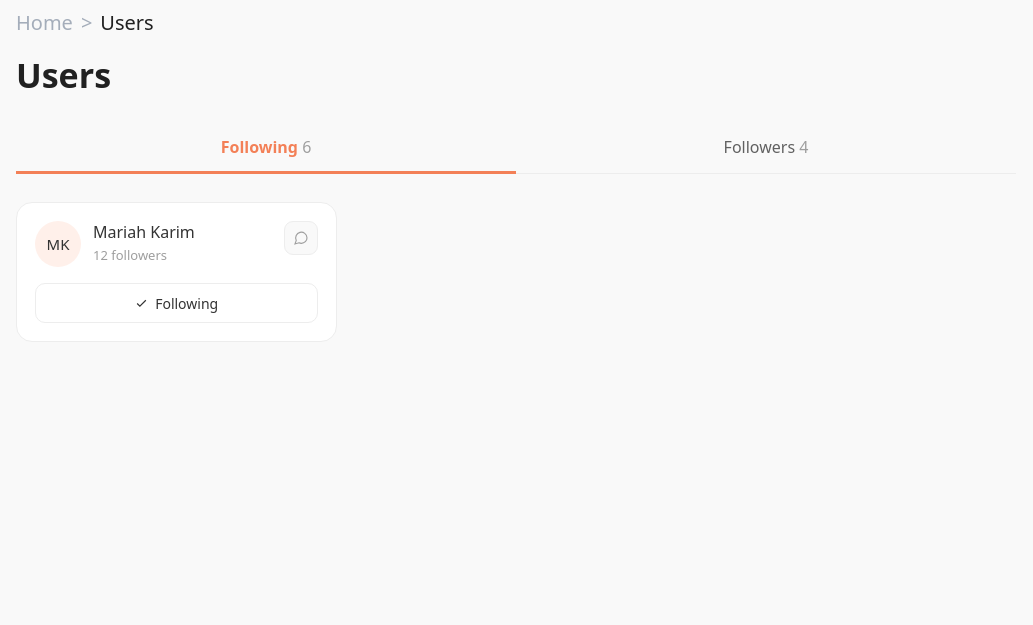
Test: ConnectionsView › unfollows from "Following" and drops the card
Click the button named "Following Mariah Karim". click: (177, 303)
box: [35,283,318,323]
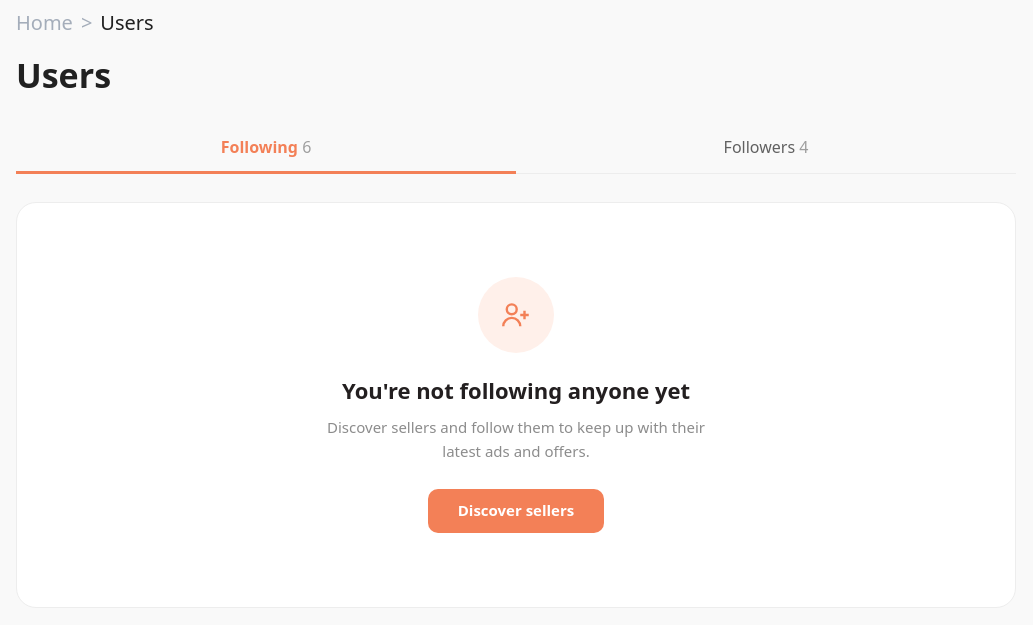
Now the link "Mariah Karim" is gone
